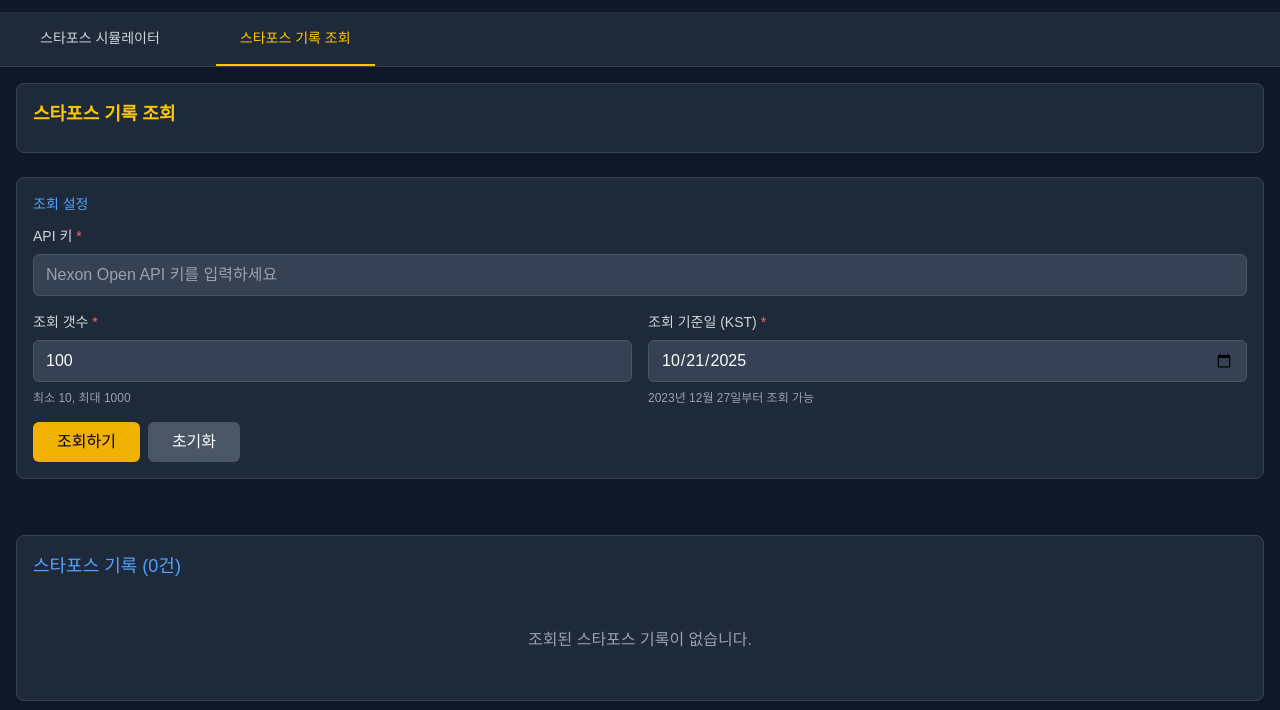
Scenario: 히스토리 - 조회 기능 › 초기화 버튼 → 입력값 및 테이블 리셋
Type "test-api-key" into the password field with test id "apikey" at x=640, y=275, box [33,254,1247,296]
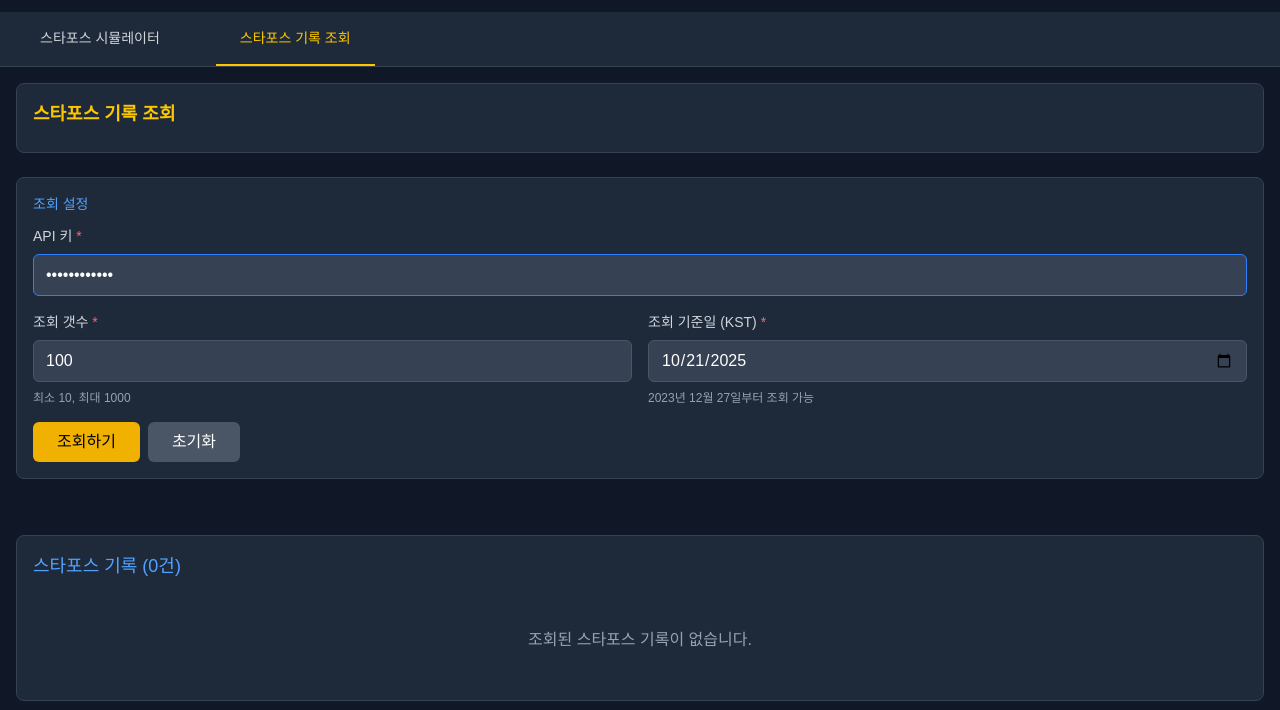
Replace the text in the number field with test id "count" with "50" at x=333, y=361, box [33,340,632,382]
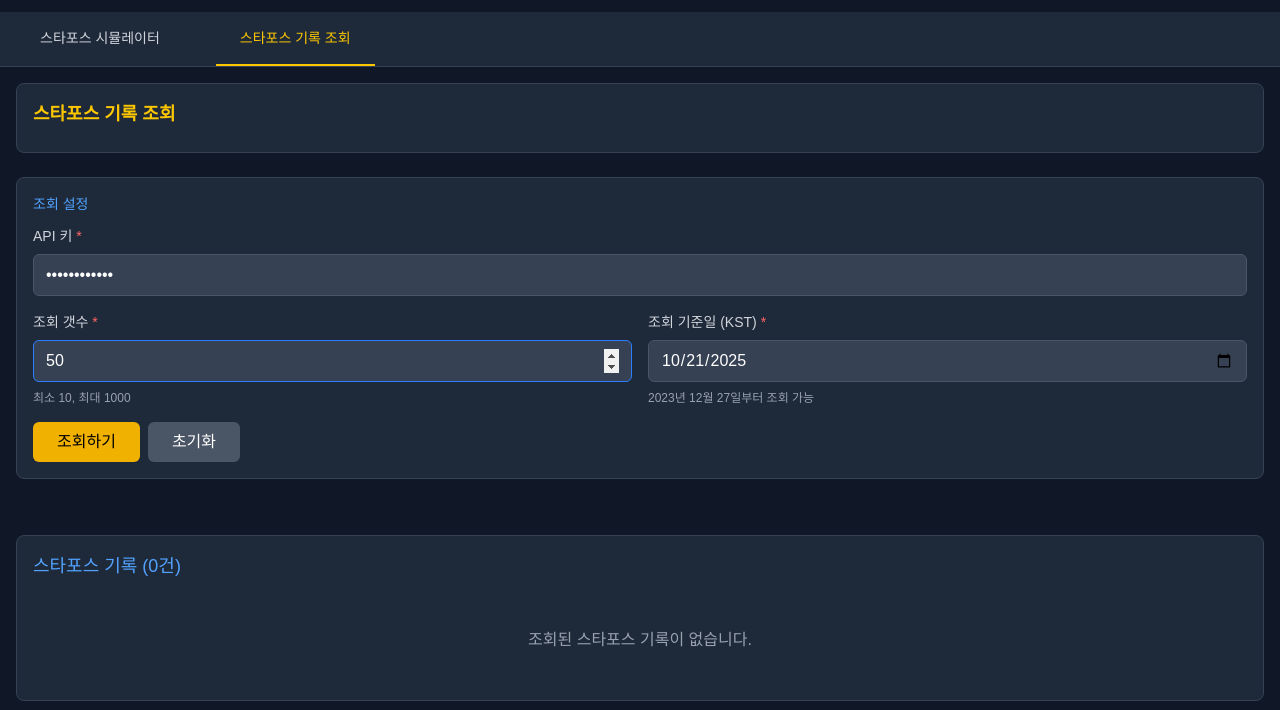
Click the button with test id "btn-submit" at x=87, y=442, box [33,422,140,462]
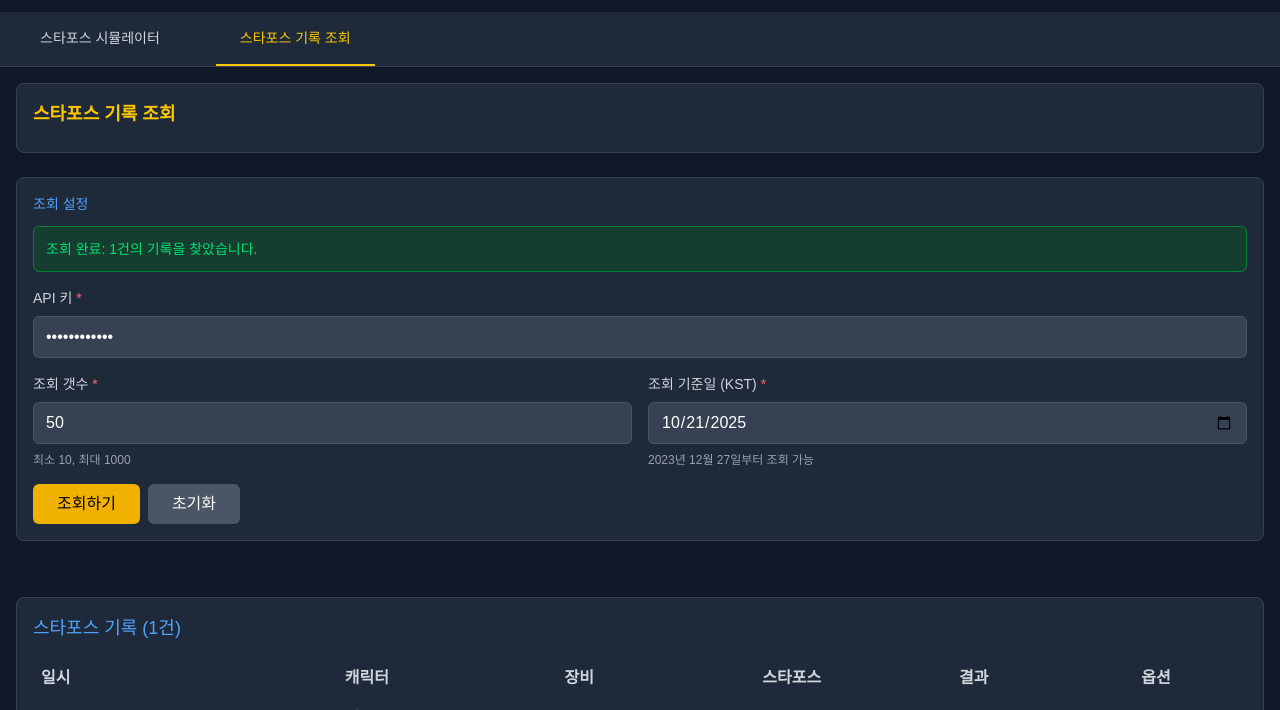
Now the text "조회 완료: 1건의 기록을 찾았습니다." is shown, box [46,241,258,257]
Click the button with test id "btn-reset" at x=194, y=504, box [148,484,240,524]
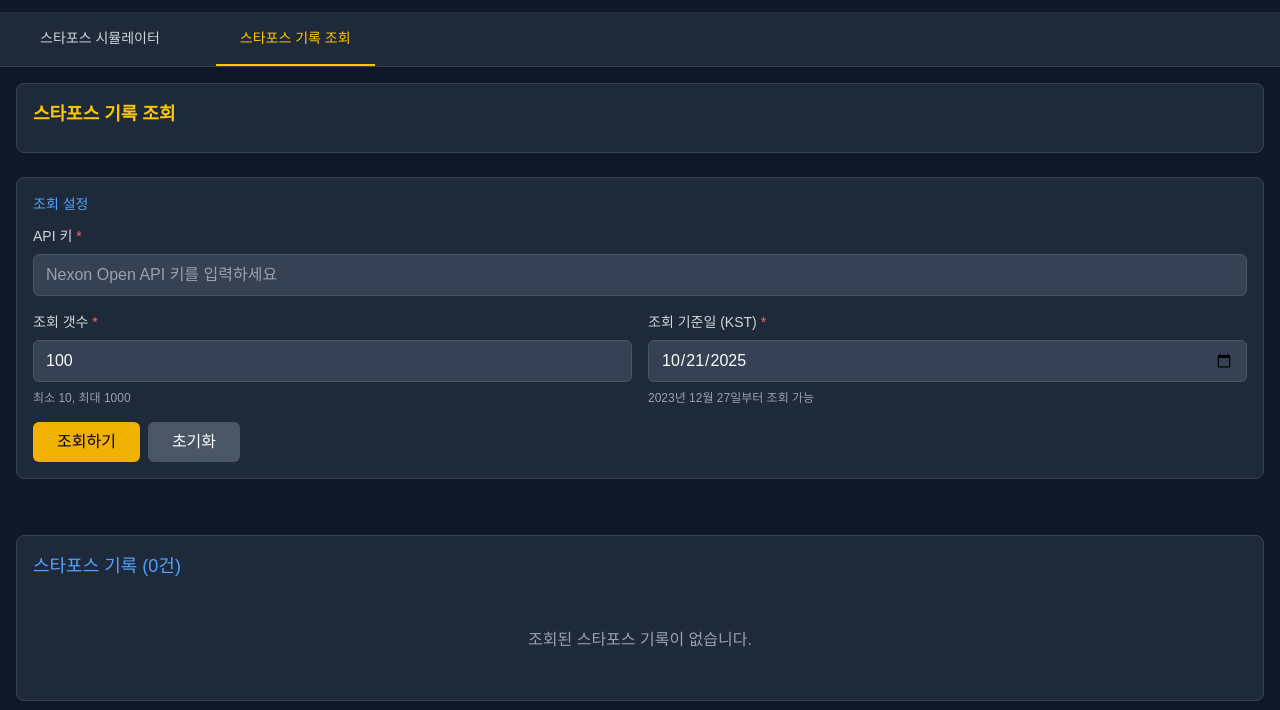
Now the number field with test id "count" holds "100", box [33,340,632,382]
Now the text "조회 완료" is gone
